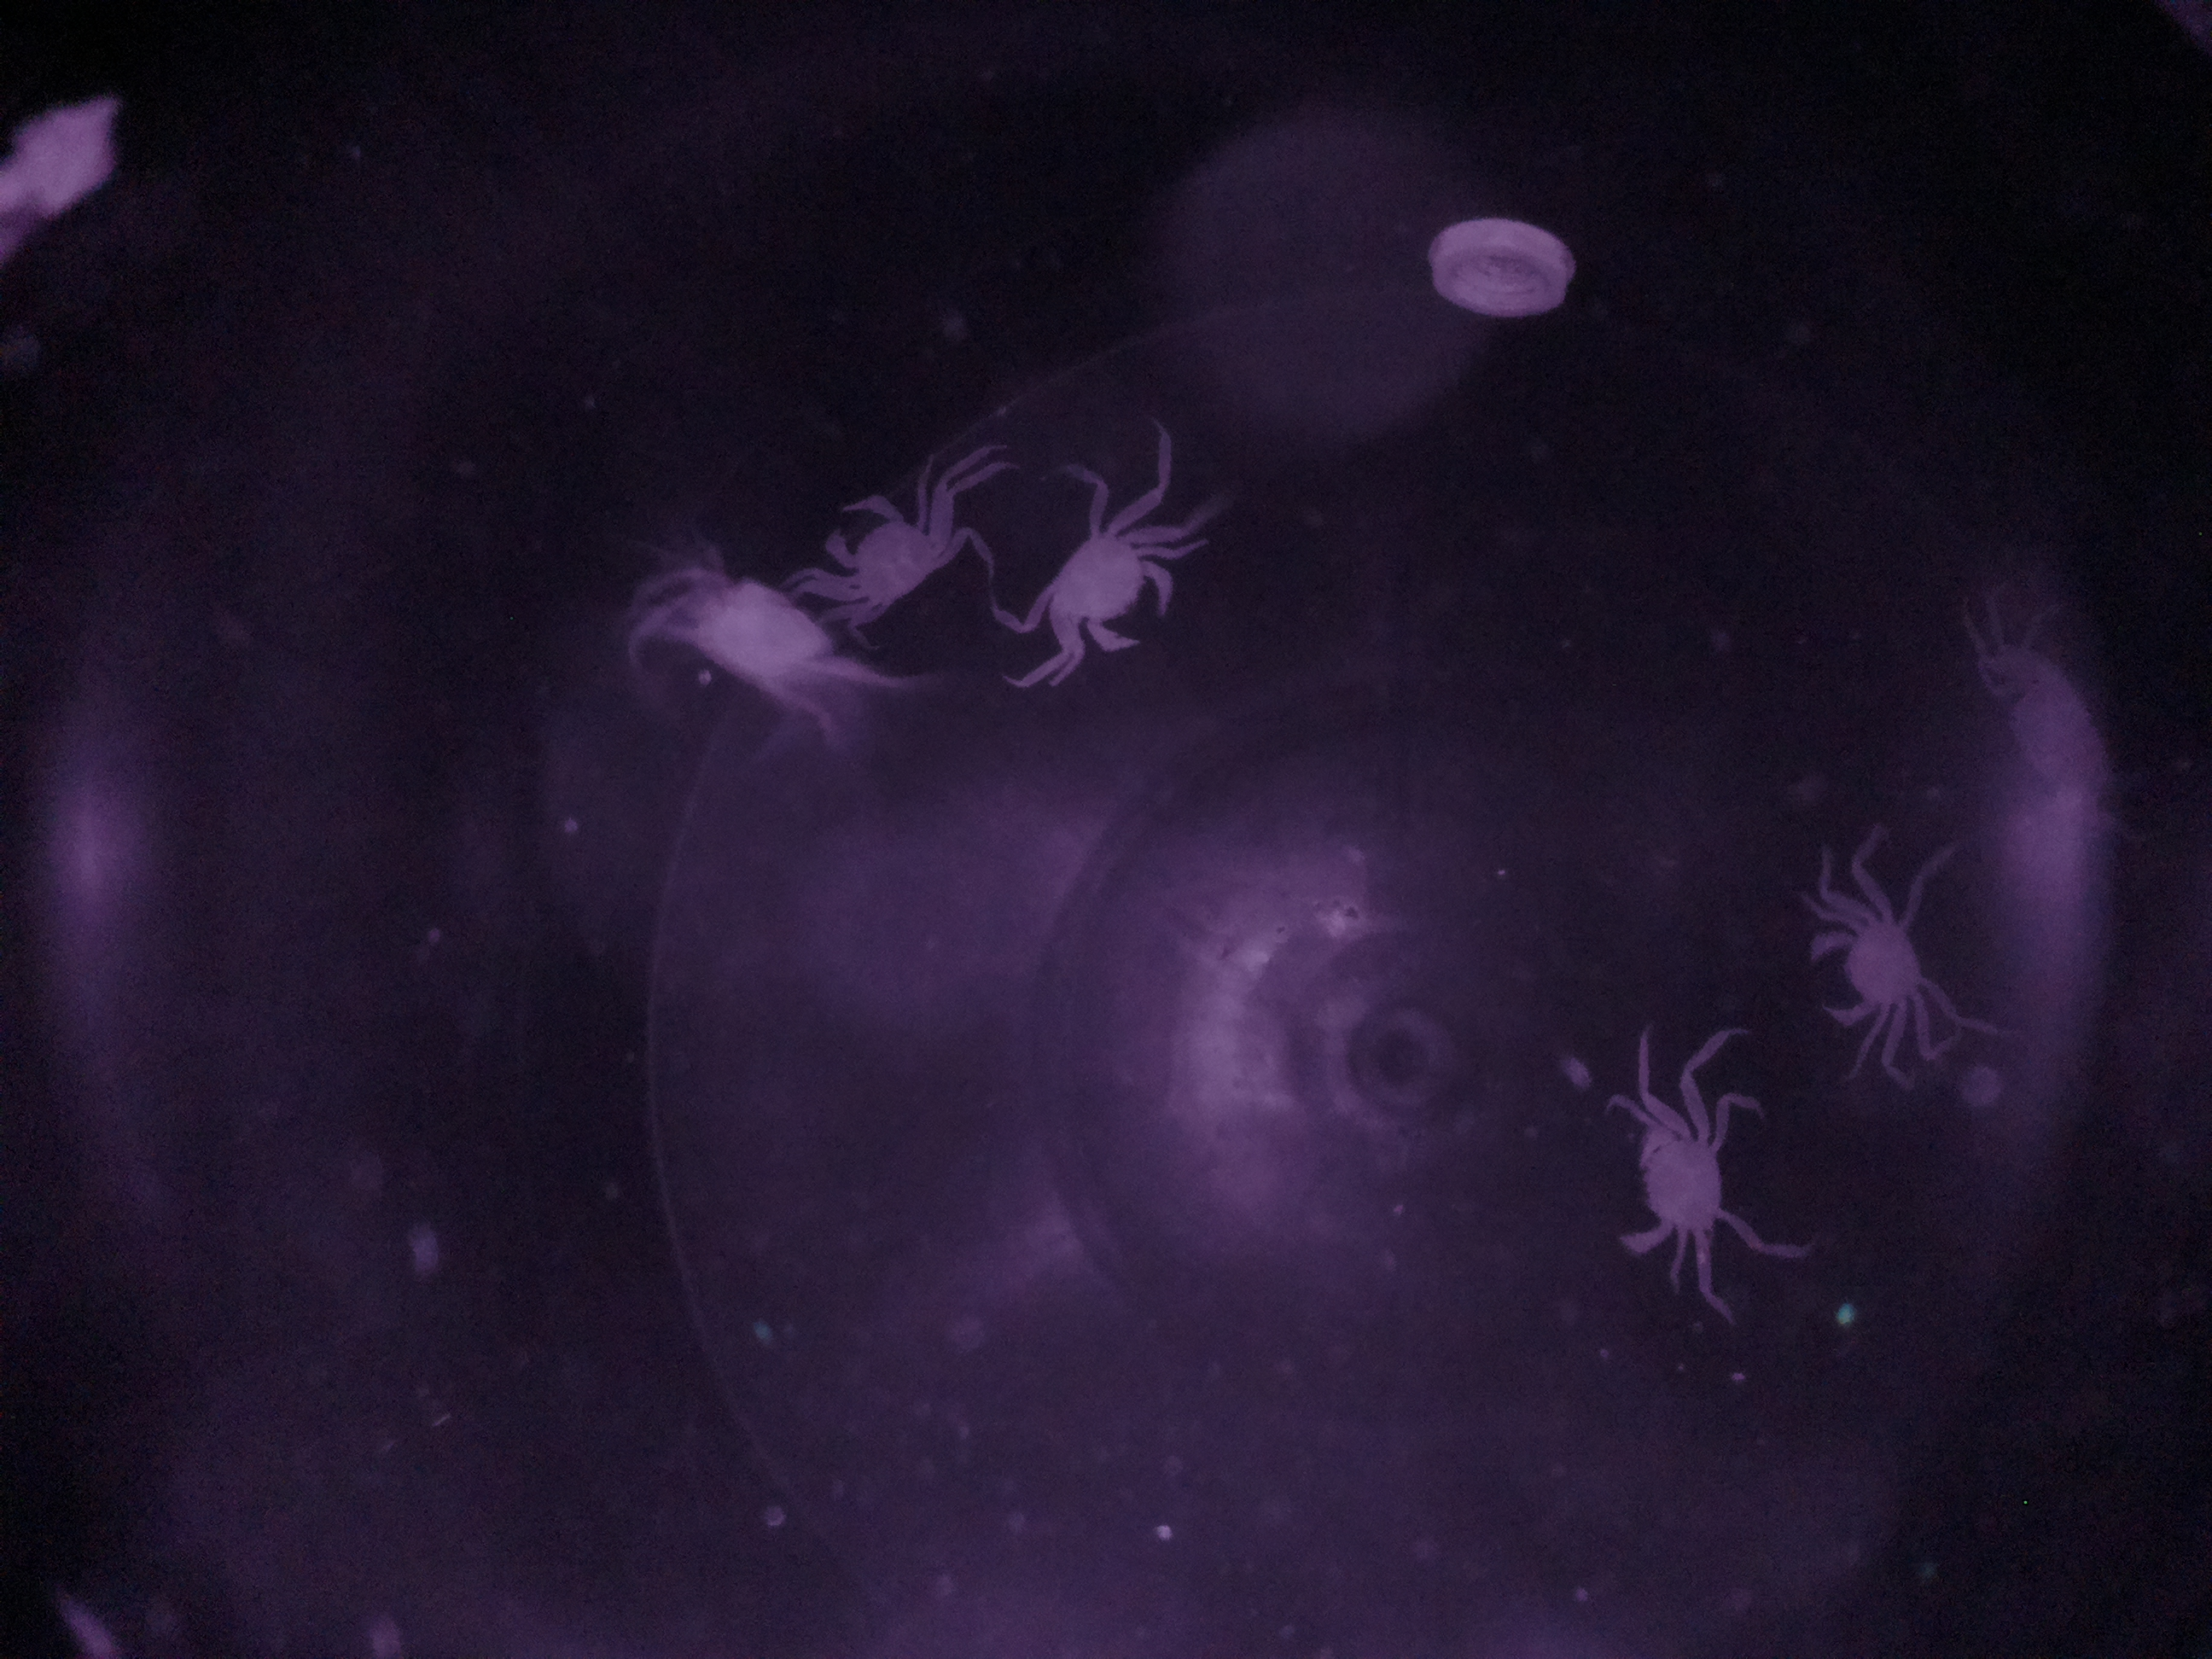Crab: (1590, 1073, 1763, 1288), (1785, 871, 1973, 1051), (1017, 491, 1184, 685), (799, 474, 963, 636)
